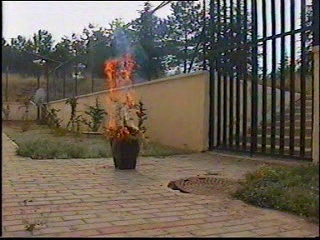smoke: (109, 17, 149, 63)
